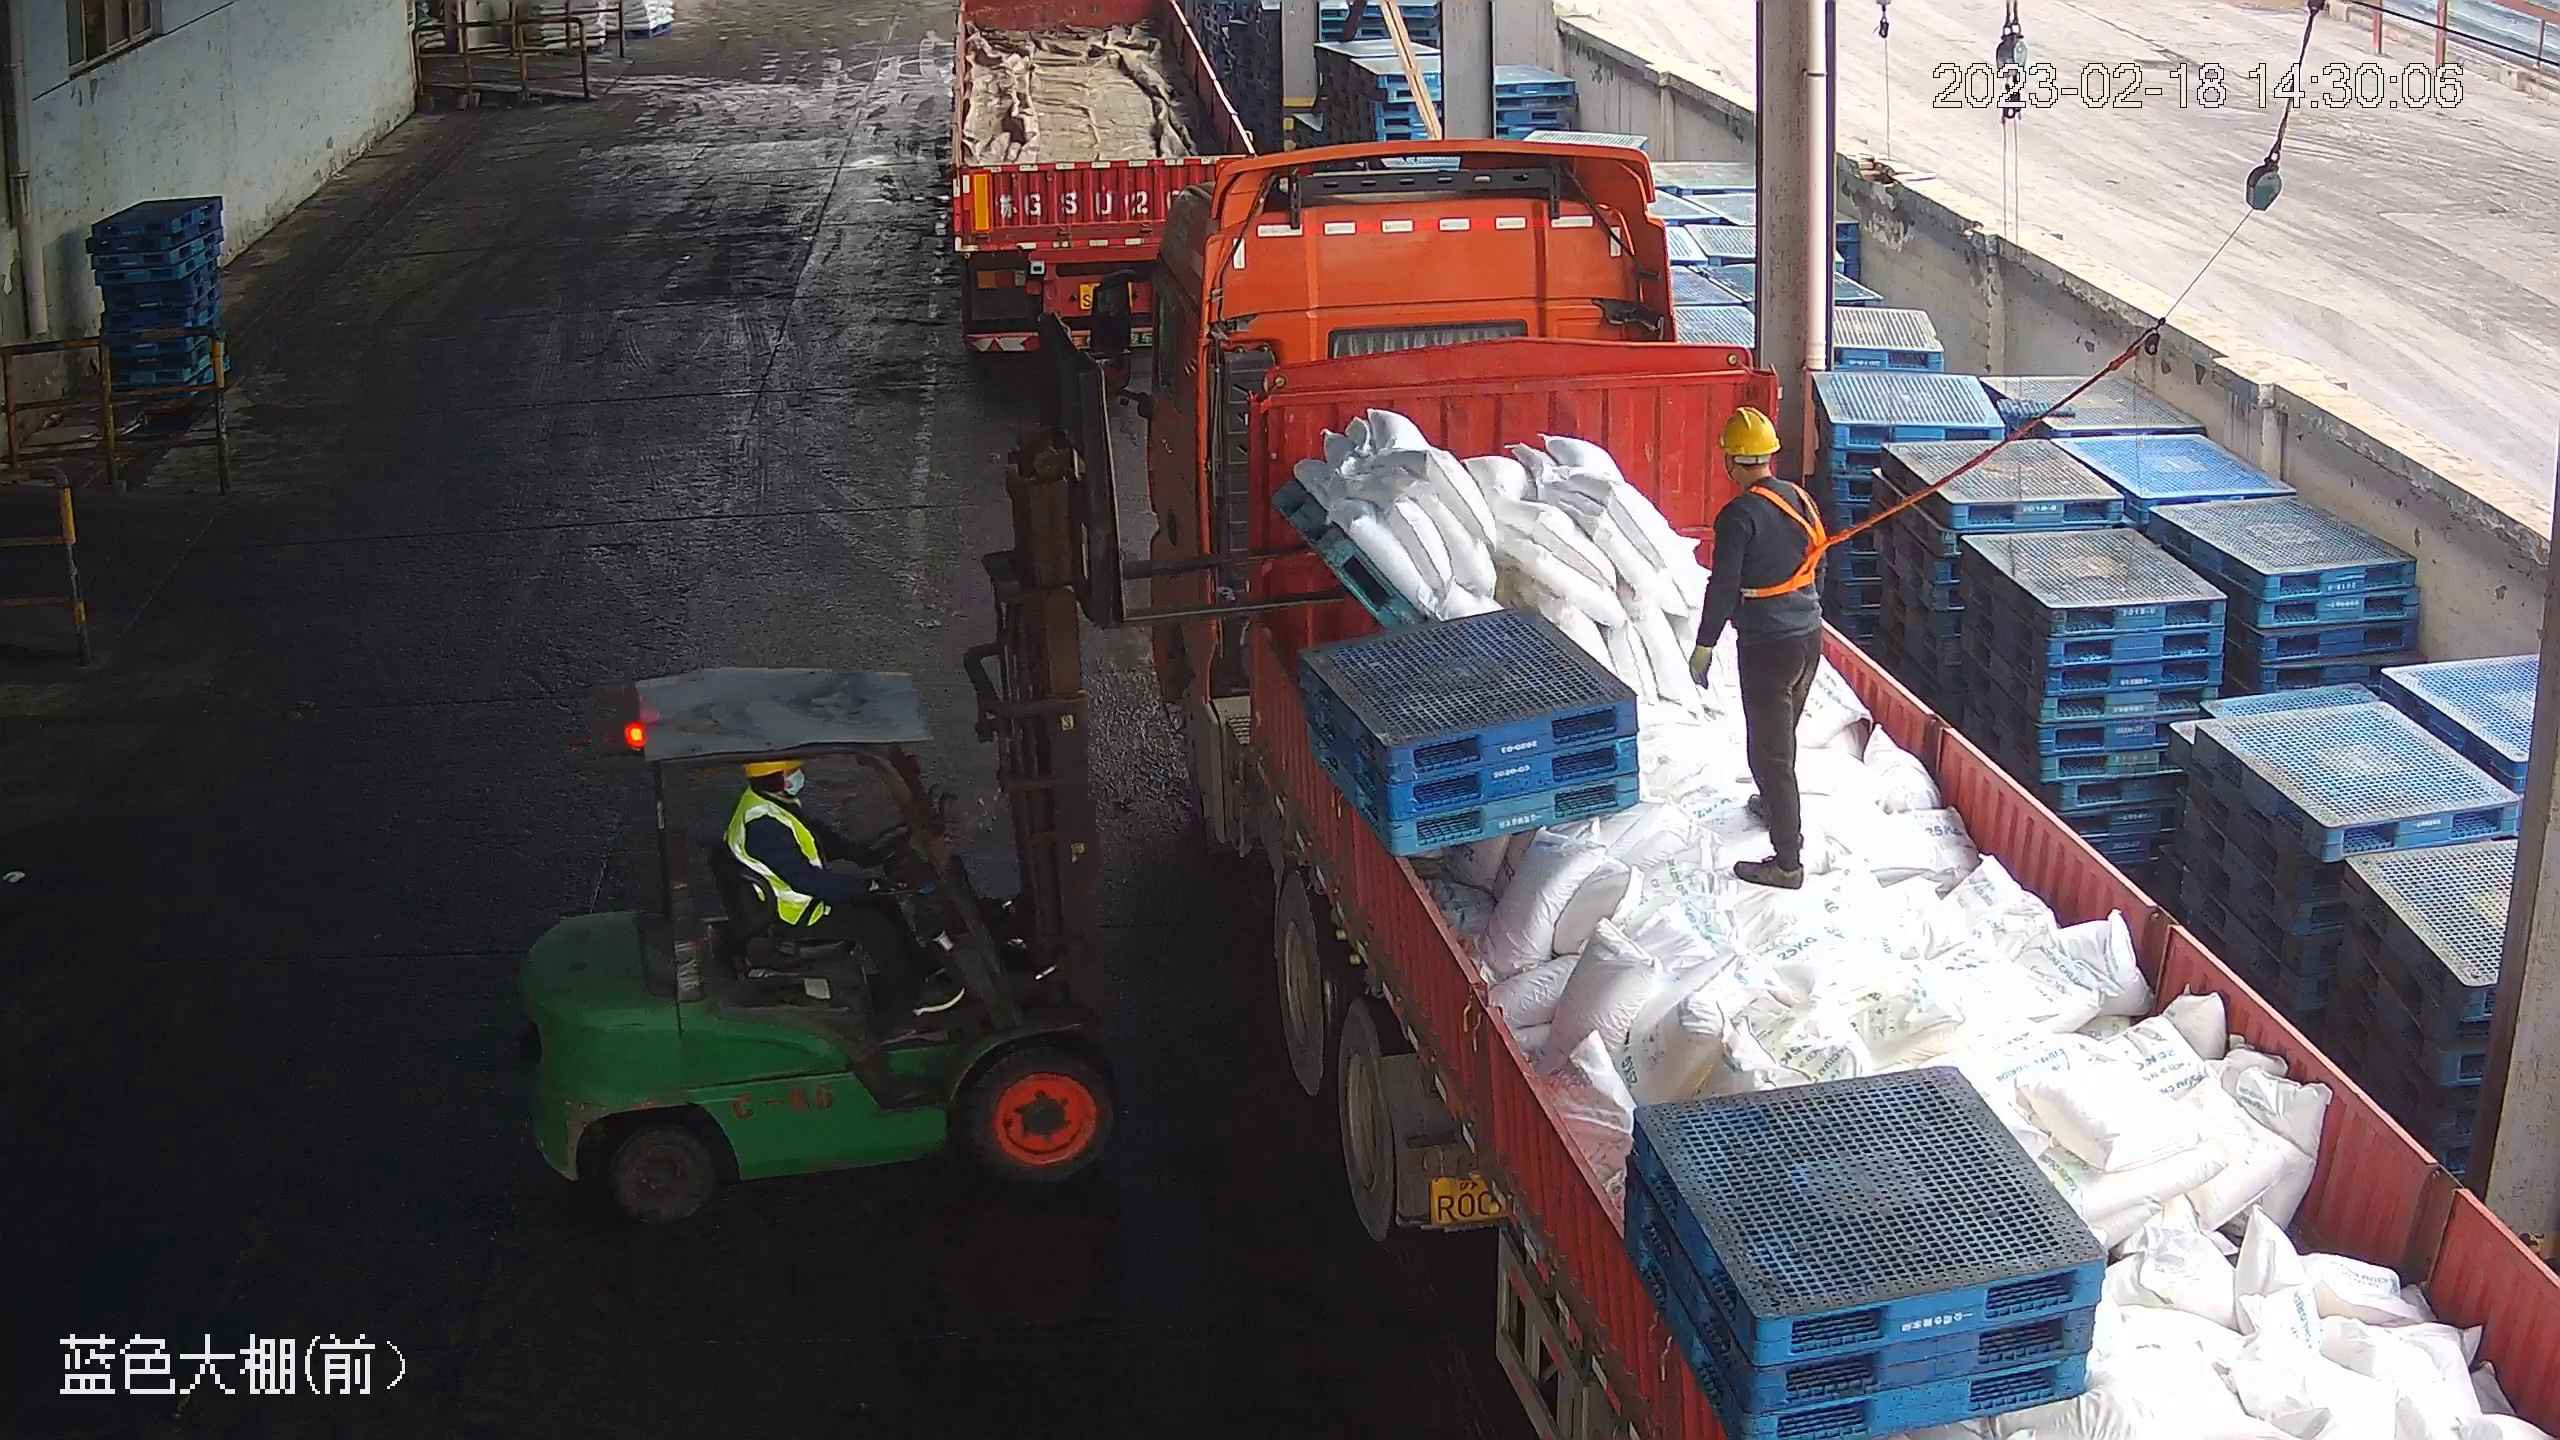belt: (1736, 480, 1843, 601)
head: (1703, 403, 1831, 548), (728, 757, 827, 853)
helmet: (1717, 402, 1784, 455)
people: (1684, 398, 1832, 887), (726, 754, 965, 1013)
truck: (967, 152, 2550, 1440), (935, 5, 1278, 357)
